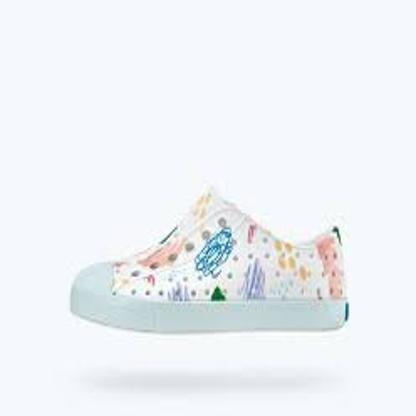not trash: (68, 188, 352, 334)
